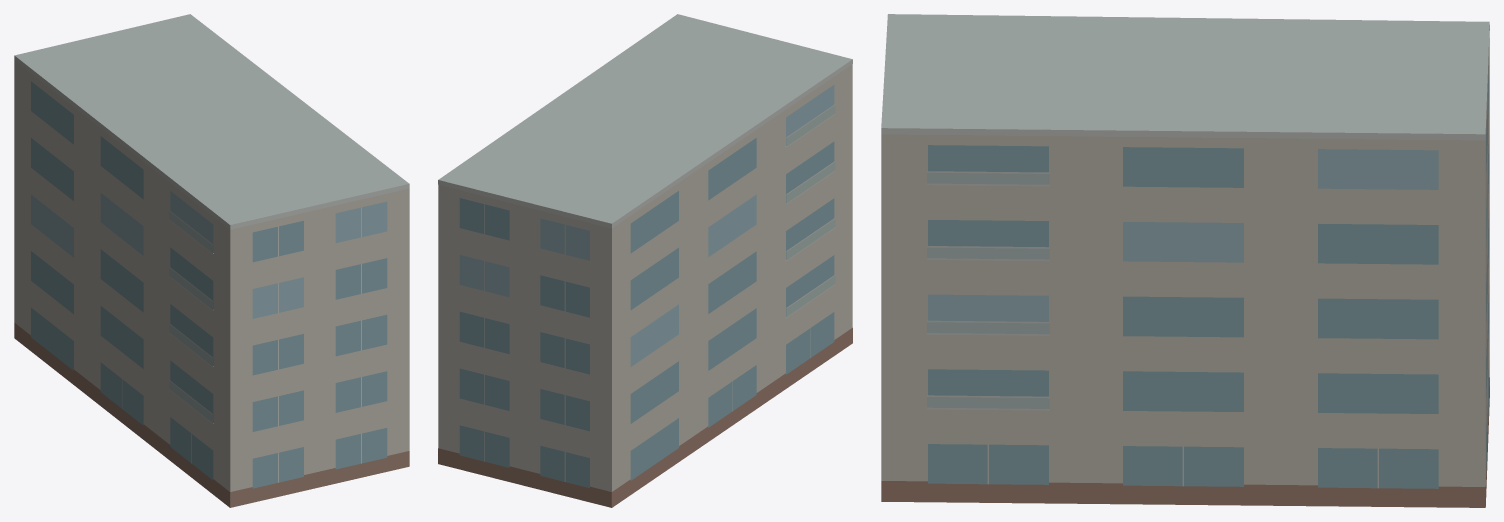
File: survey-upis-32877386.glb
The picture shows the model from 3 angles, left to right: view 1: azimuth 30°, elevation 25°; view 2: azimuth 150°, elevation 25°; view 3: azimuth 270°, elevation 25°; orthographic projection. The views are drawn at different scales.
Visible parts, largest first — view 1: survey-upis-32877386.tmp; view 2: survey-upis-32877386.tmp; view 3: survey-upis-32877386.tmp.
Boxes of the visible parts, x1,y1,x2,y2 form: survey-upis-32877386.tmp: (14, 14, 409, 507); survey-upis-32877386.tmp: (438, 14, 852, 507); survey-upis-32877386.tmp: (881, 14, 1489, 507).
Bounding box in the file's own units: 10.22 × 14.8 × 21.86.
